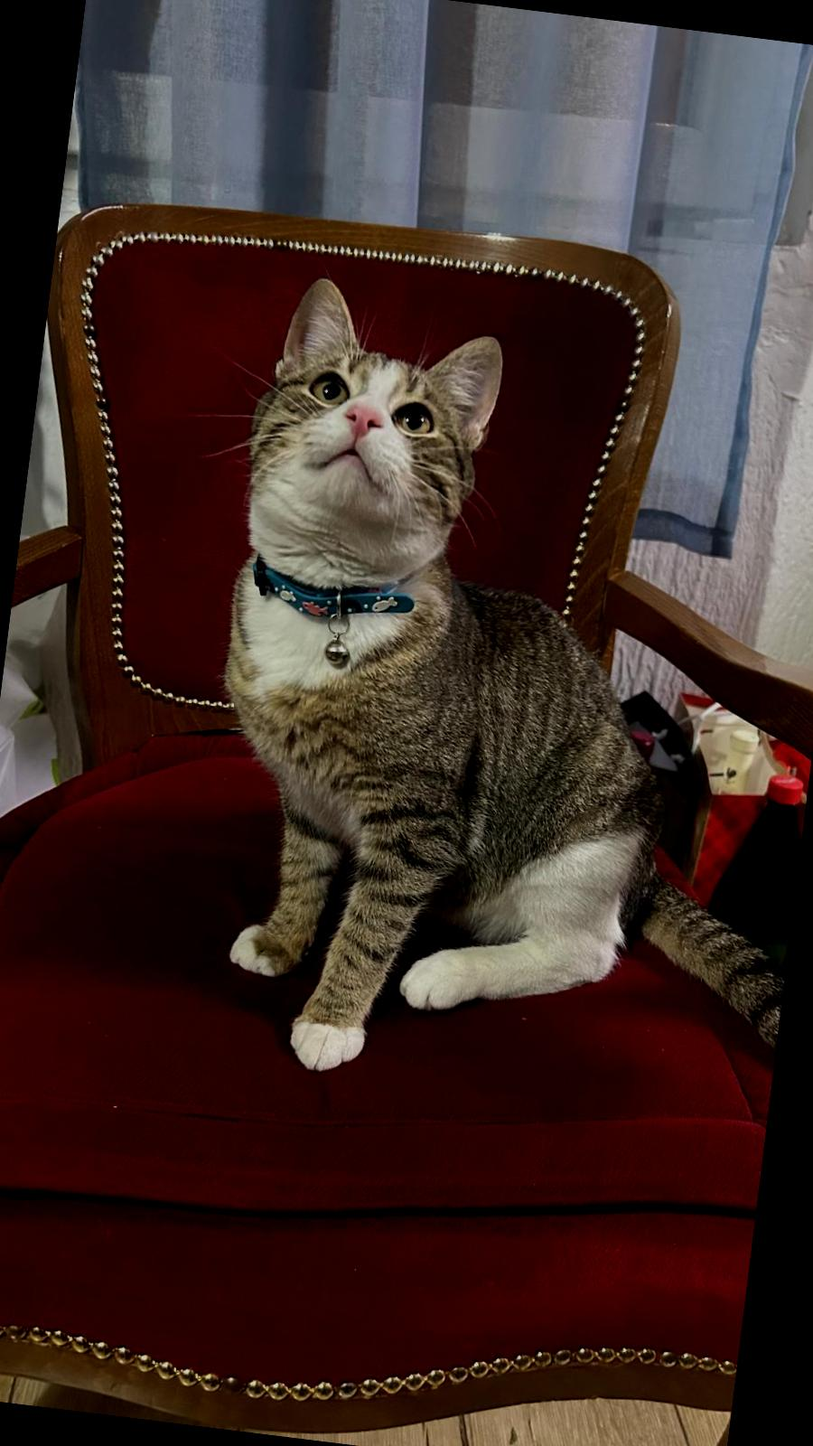macka: (166, 268, 813, 1126)
